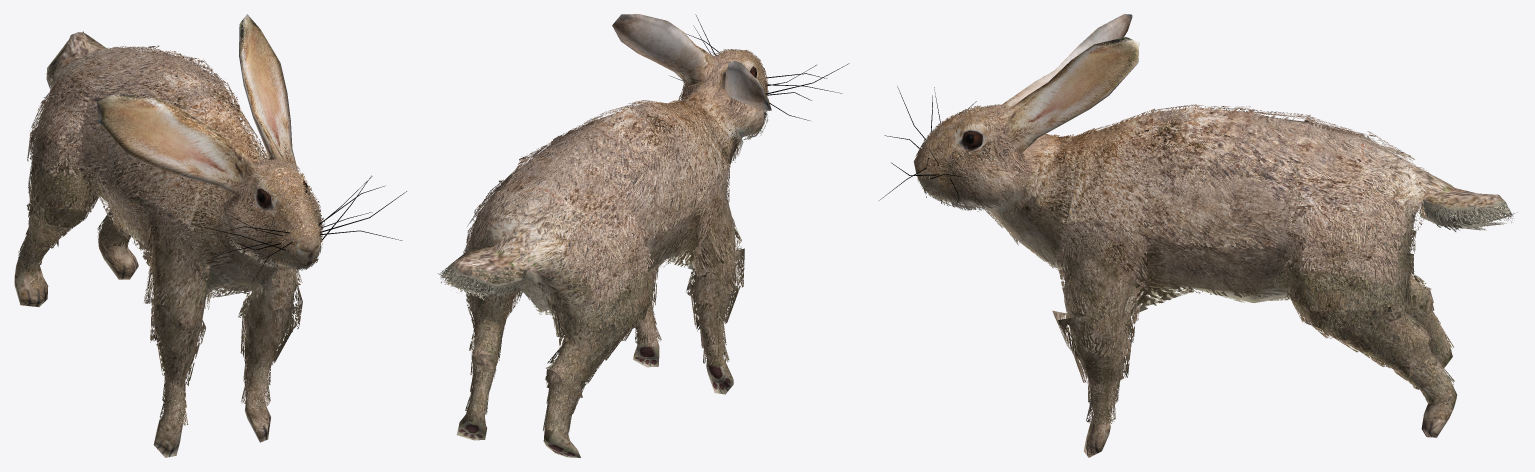
The model's file is rabbit20014.obj.
The picture shows the model from 3 angles, left to right: view 1: azimuth 30°, elevation 25°; view 2: azimuth 150°, elevation 25°; view 3: azimuth 270°, elevation 25°; orthographic projection. The views are drawn at different scales.
Visible parts, largest first — view 1: Rabbit, Fur; view 2: Rabbit, Fur; view 3: Fur, Rabbit.
Boxes of the visible parts, x1=… form: Rabbit: x1=14, y1=14, x2=406, y2=457; Fur: x1=17, y1=31, x2=324, y2=425; Rabbit: x1=451, y1=14, x2=849, y2=457; Fur: x1=438, y1=49, x2=768, y2=433; Fur: x1=915, y1=104, x2=1514, y2=425; Rabbit: x1=879, y1=14, x2=1505, y2=457.
Size of the model in its own units: 8.94 by 15.37 by 21.35.
